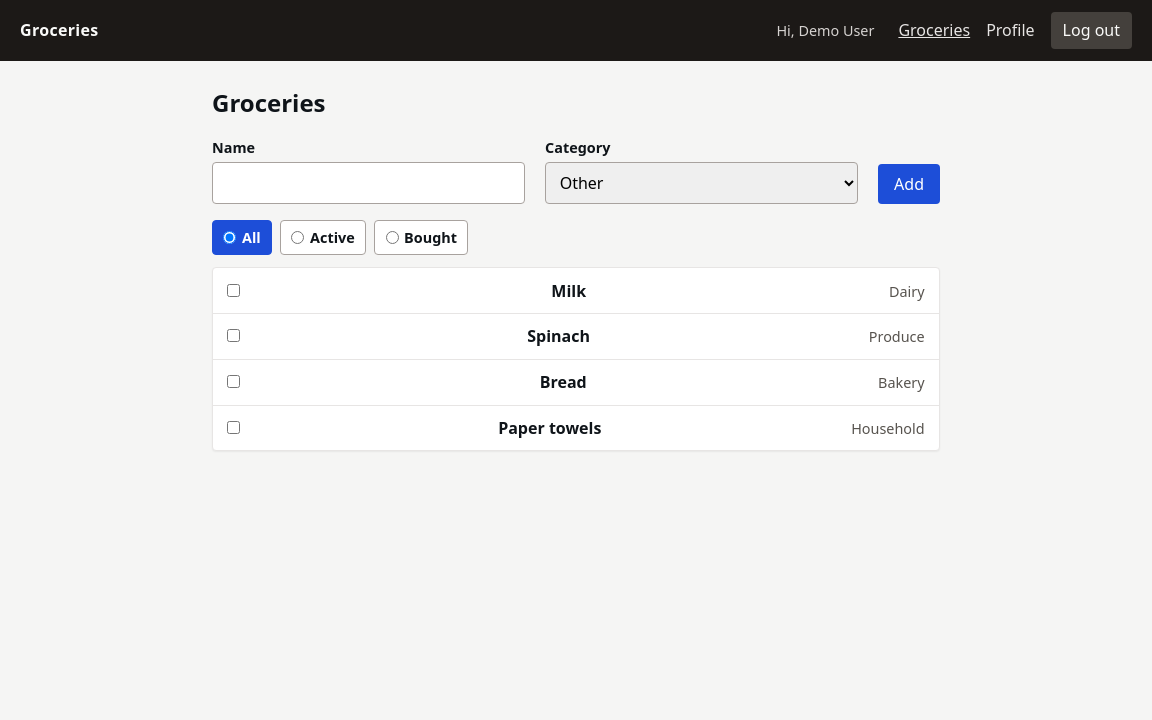
Test: GroceriesPage › appends a new item to the list after add form submit
Expected: the heading "Groceries" is shown, [212,86,326,119]
Type "Lemons" into the field labelled "Name" at {"x": 368, "y": 184}, box [212,162,525,204]
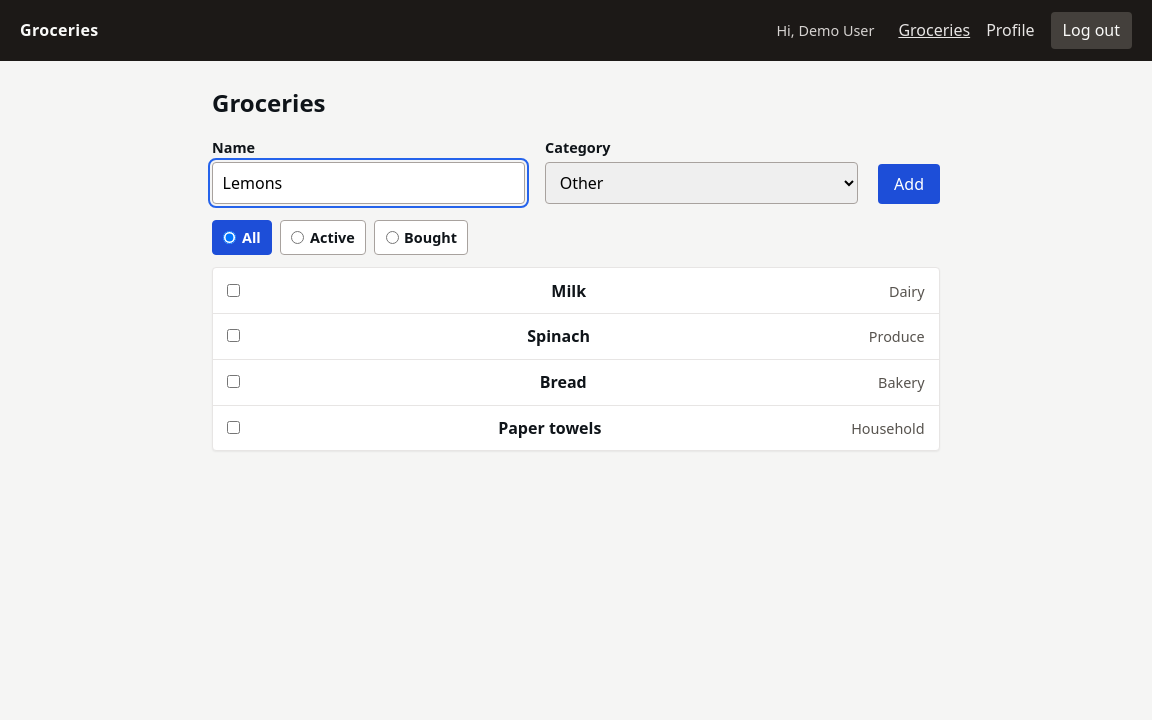
Select "Produce" in the dropdown labelled "Category" at {"x": 702, "y": 184}, box [545,162,858,204]
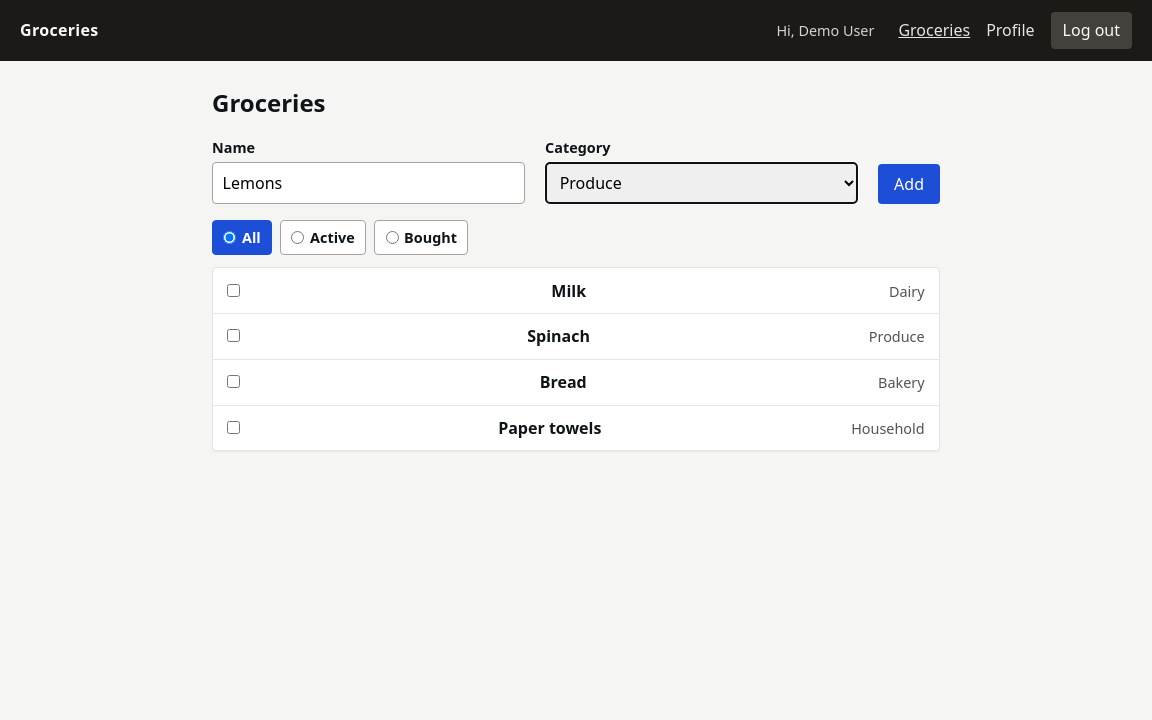
Click the button "Add" at {"x": 909, "y": 184}, box [878,164,940,204]
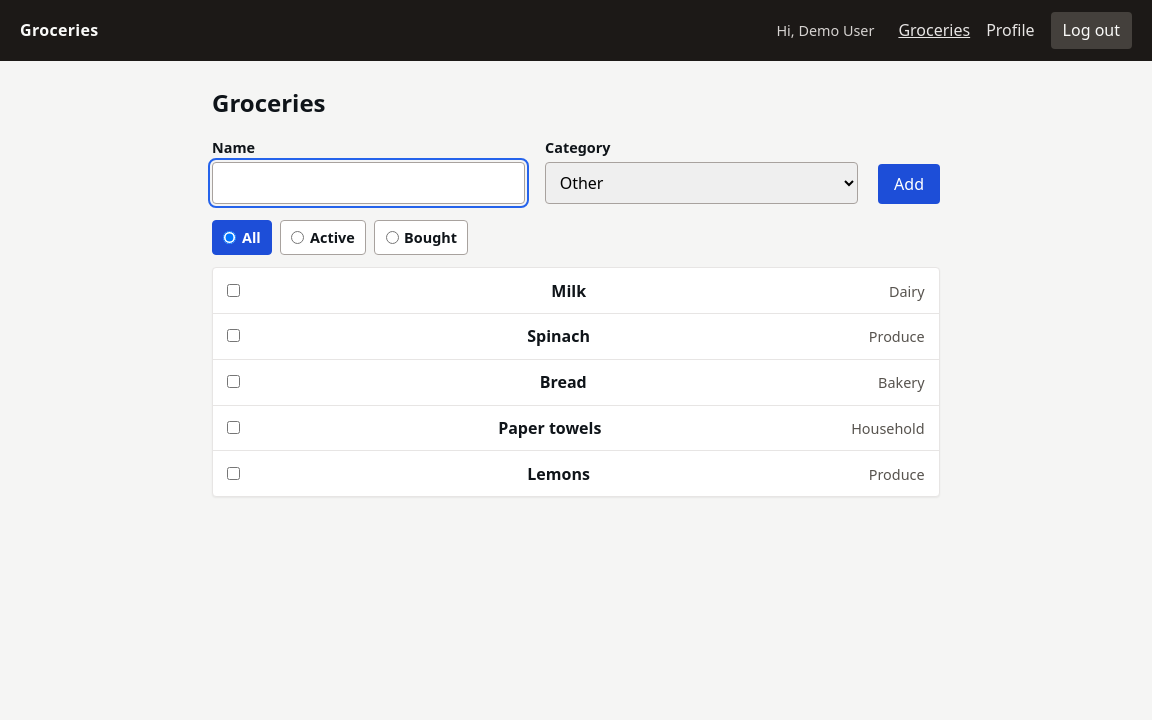
Now the text "Lemons" is shown, box [527,462,590,486]
